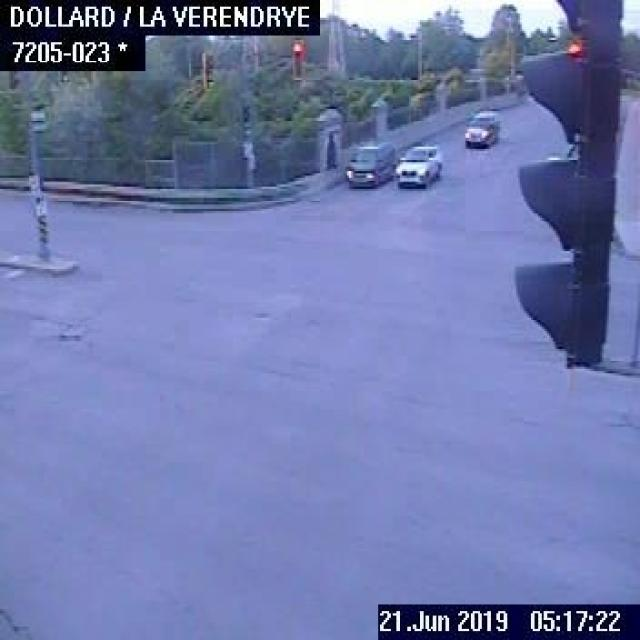vehicle: (342, 137, 394, 189), (394, 142, 441, 188), (461, 107, 500, 150)
